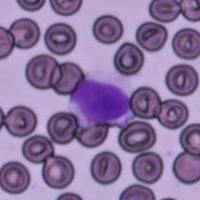L: (69, 73, 136, 128)
